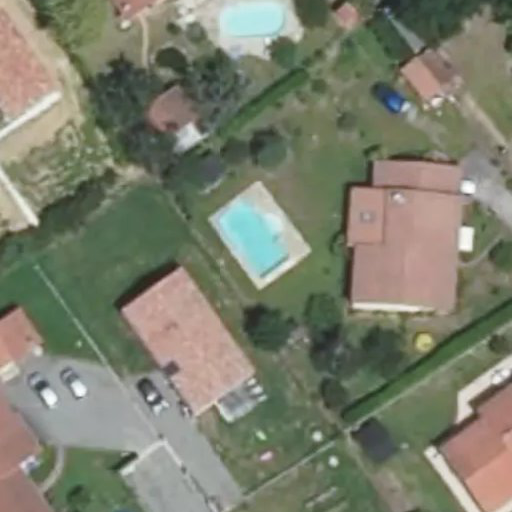pool: (216, 224, 295, 259)
